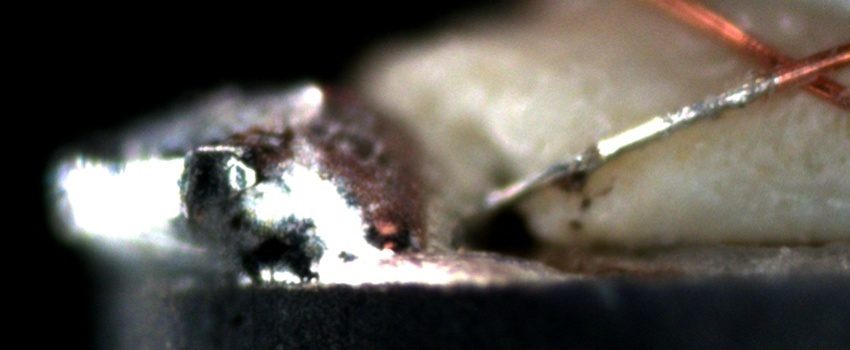CL: (754, 38, 844, 101)
TS: (480, 73, 776, 210)
